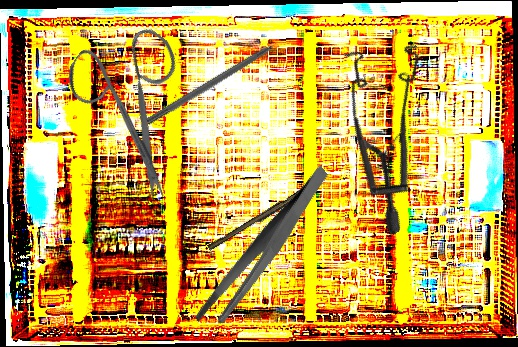Dressing Forceps: (166, 164, 362, 335)
Hook Surgical: (145, 33, 292, 127)
Iris Scissors: (35, 3, 239, 204)
Scalpel Handle: (207, 177, 321, 255)
Speculum: (299, 20, 494, 236)
